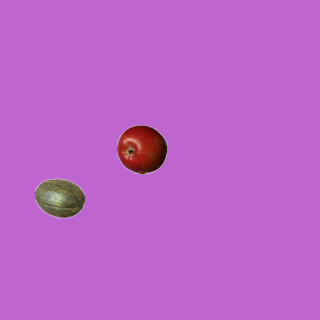Apple Braeburn: (116, 124, 166, 174)
Melon Piel de Sapo: (34, 173, 84, 223)
